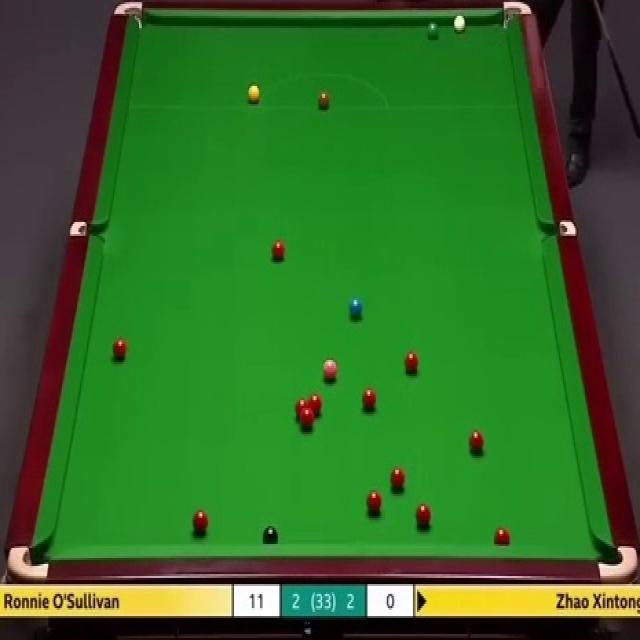black-ball: (262, 525, 280, 546)
blue-ball: (349, 299, 364, 320)
brown-ball: (318, 88, 330, 108)
green-ball: (426, 22, 439, 40)
pink-ball: (322, 359, 339, 384)
red-ball: (358, 385, 376, 411), (191, 508, 208, 535), (388, 466, 404, 494), (415, 504, 432, 530), (404, 349, 420, 375), (366, 490, 382, 516), (468, 430, 484, 454), (112, 335, 126, 360), (294, 398, 308, 422), (309, 393, 322, 418), (272, 237, 284, 264), (493, 526, 511, 543), (300, 411, 316, 430)
white-ball: (453, 15, 466, 32)
yellow-ball: (247, 86, 259, 102)
